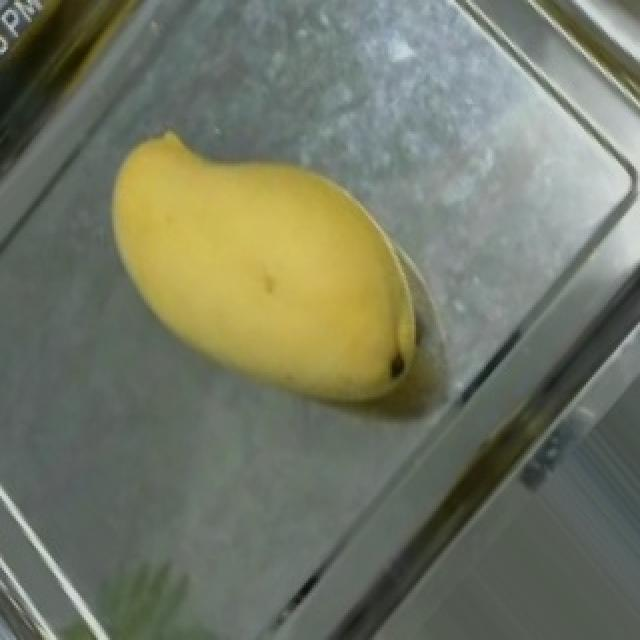fruit: (88, 52, 488, 476)
